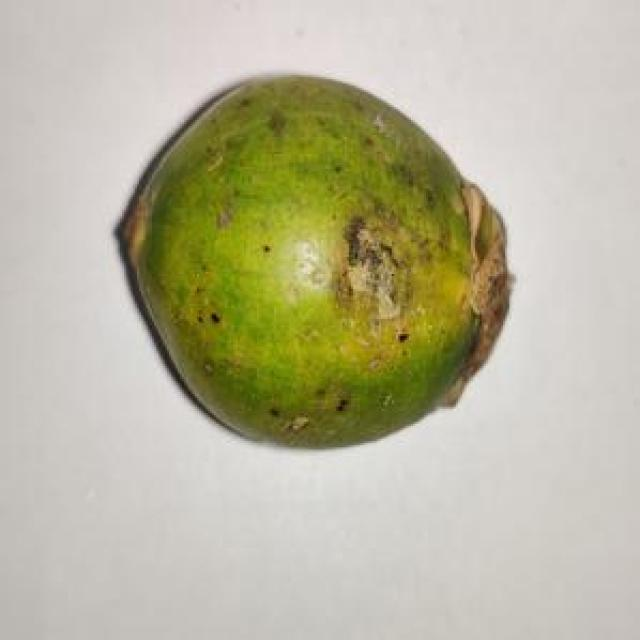good: (118, 75, 512, 443)
